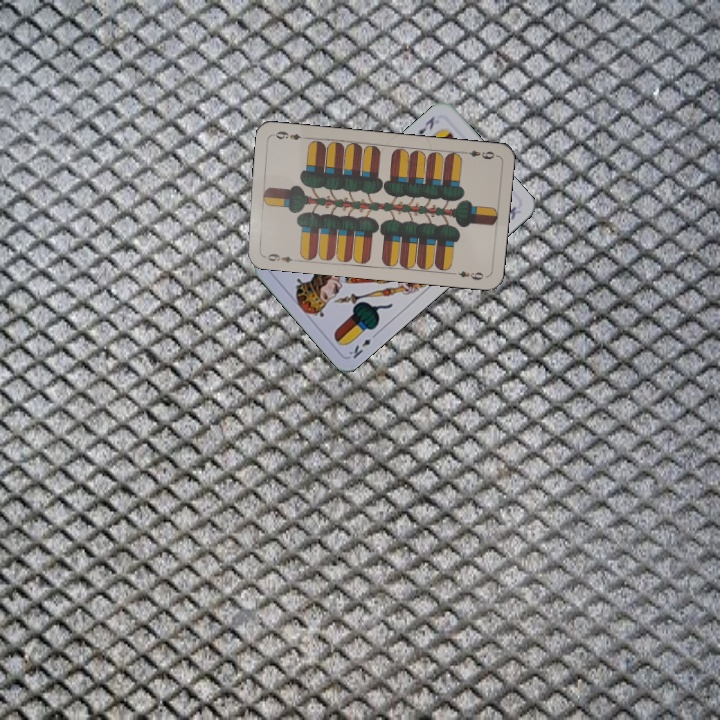E9: (259, 249, 300, 265), (458, 146, 497, 162)
EK: (344, 328, 380, 362), (414, 112, 437, 137)
